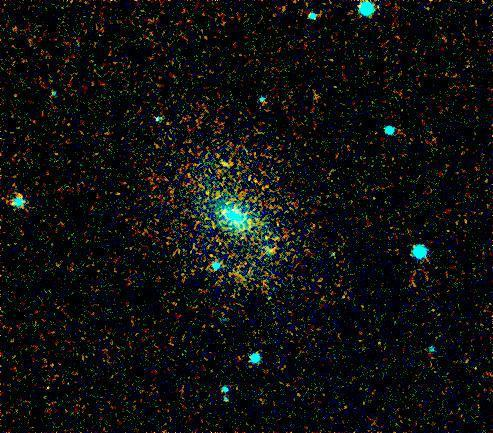star: (210, 149, 240, 179)
